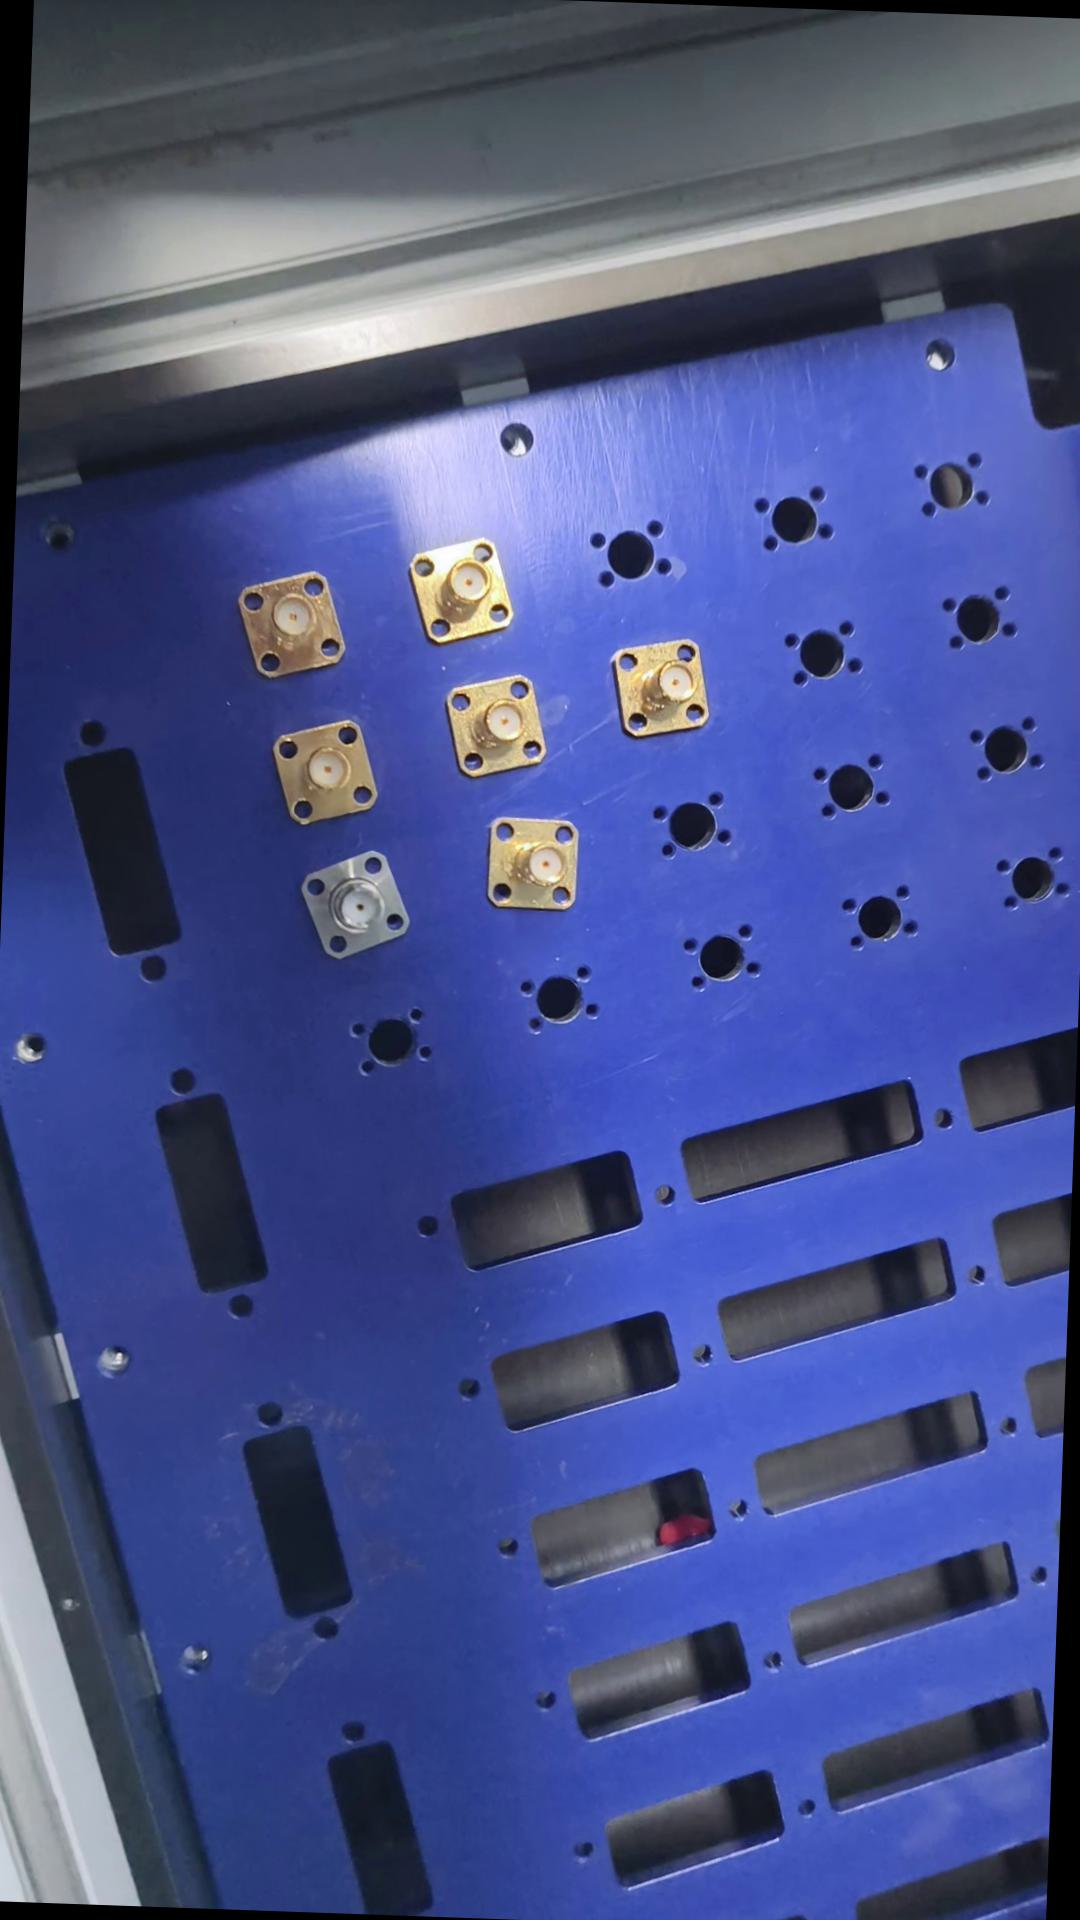SMA: (229, 570, 356, 683), (299, 849, 422, 959), (407, 533, 527, 644), (273, 717, 389, 825), (477, 811, 592, 919), (440, 676, 558, 778), (612, 634, 716, 746)
